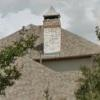Chimney: (38, 2, 66, 60)
